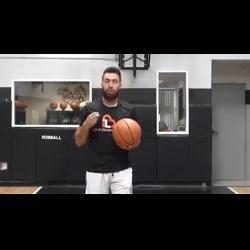BasketBall: (110, 116, 142, 151)
